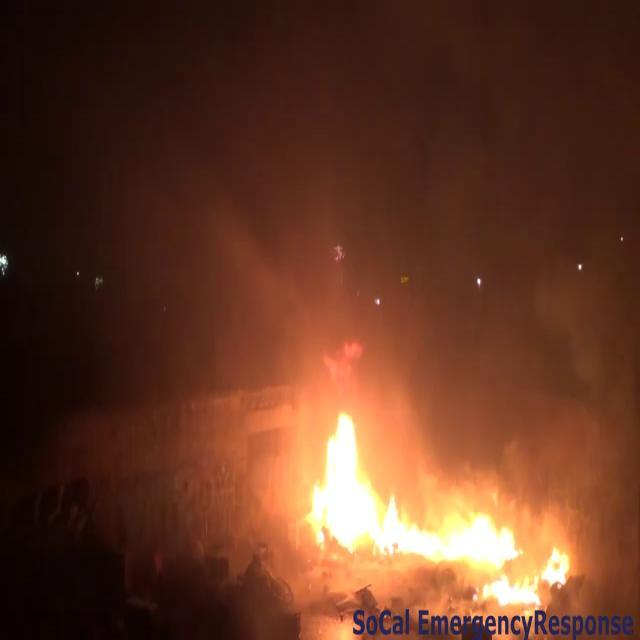Fire: (292, 403, 570, 605)
Smoke: (46, 0, 640, 512)
